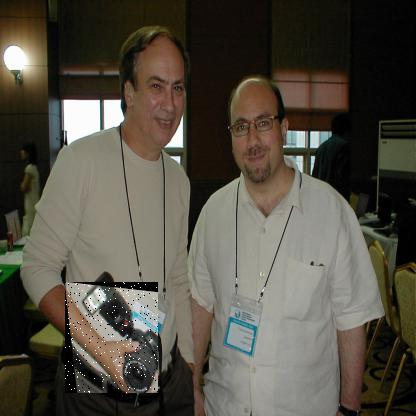Camera: (66, 283, 160, 395)
